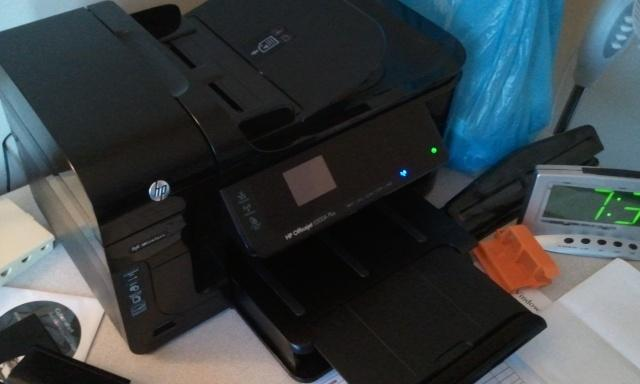Printer: (0, 0, 547, 383)
